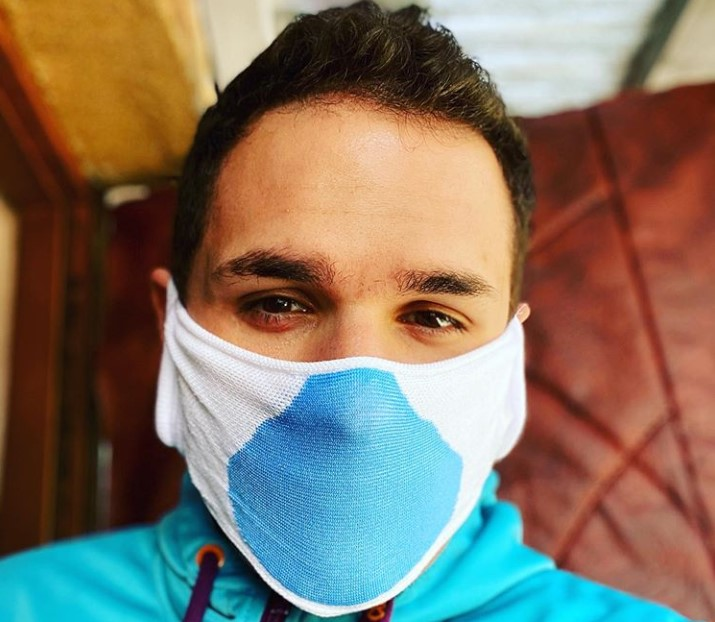face_with_mask: (154, 74, 536, 615)
